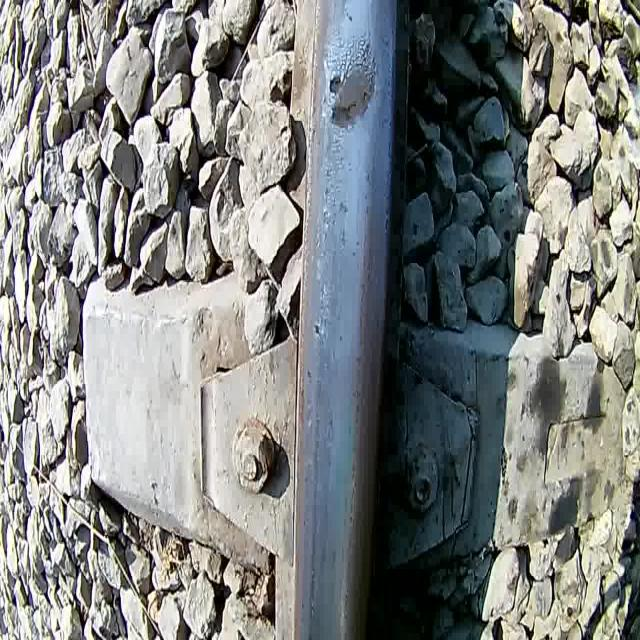Squats: (320, 35, 385, 140)
